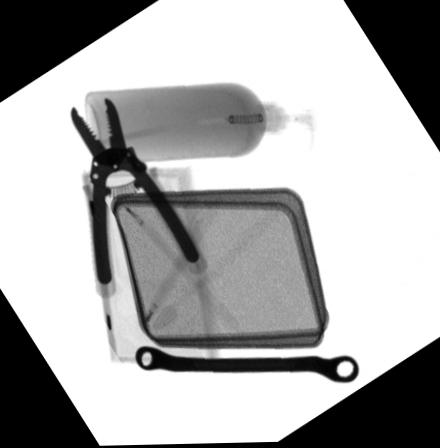Pliers: (67, 92, 208, 305)
Wrench: (133, 347, 359, 384)
